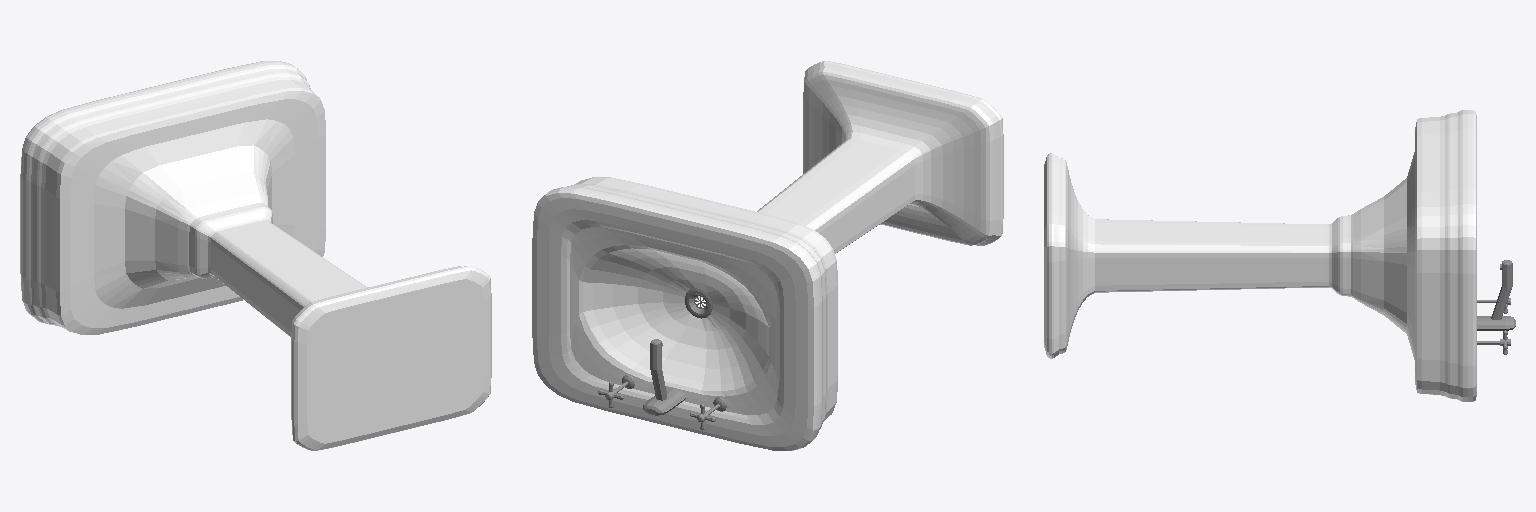
robot.urdf — 132:
<robot name="132">


	<link name="0:virtual">
		<visual>
			<origin xyz="0.0 0.0 0.0" rpy="0 0 0"/>
			<geometry>
				<cylinder length="0" radius="0"/>
			</geometry>
		</visual>
	</link>


	<link name="1:static">
		<visual>
			<origin xyz="-0.0 -0.0 -0.0" rpy="0 0 0"/>
			<geometry>
				<mesh filename="../raw_data/132/part_meshes/1.dae" />
			</geometry>
		</visual>
	</link>


	<link name="2:faucet handle 1">
		<visual>
			<origin xyz="0.1011795960367227 -0.9587434828281403 0.1516426540911204" rpy="0 0 0"/>
			<geometry>
				<mesh filename="../raw_data/132/part_meshes/2.dae" />
			</geometry>
		</visual>
	</link>


	<link name="3:faucet handle 2">
		<visual>
			<origin xyz="-0.1011795960367227 -0.9587434828281403 0.1516426540911204" rpy="0 0 0"/>
			<geometry>
				<mesh filename="../raw_data/132/part_meshes/3.dae" />
			</geometry>
		</visual>
	</link>


	<joint name="0:virtual::1:static" type="fixed">
		<parent link="0:virtual"/>
		<child link="1:static"/>
		<origin xyz="0.0 0.0 0.0" rpy="0 0 0"/>
	</joint>


	<joint name="0:virtual::2:faucet handle 1_rotation" type="revolute">
		<parent link="0:virtual"/>
		<child link="2:faucet handle 1"/>
		<origin xyz="-0.1011795960367227 0.9587434828281403 -0.1516426540911204" rpy="0 0 0"/>
		<limit lower="-3.141592653589793" upper="3.141592653589793" effort="10" velocity="3"/>
		<axis xyz="0.0 1.0 0.0"/>
	</joint>


	<joint name="0:virtual::3:faucet handle 2_rotation" type="revolute">
		<parent link="0:virtual"/>
		<child link="3:faucet handle 2"/>
		<origin xyz="0.1011795960367227 0.9587434828281403 -0.1516426540911204" rpy="0 0 0"/>
		<limit lower="-3.141592653589793" upper="3.141592653589793" effort="10" velocity="3"/>
		<axis xyz="0.0 1.0 0.0"/>
	</joint>


</robot>

--- Facts derived from the render (not from the file) ---
Views: 3 orthographic renders of the robot side by side, from view 1: azimuth 30°, elevation 25°; view 2: azimuth 150°, elevation 25°; view 3: azimuth 270°, elevation 25°.
Model 132 with 4 links and 3 joints (2 revolute, 1 fixed), rooted at 0:virtual, posed all joints at 0.
Links seen in each view (by area): view 1: 1:static; view 2: 1:static; view 3: 1:static.
Link boxes in pixels (box(x1,y1,x2,y2)): 1:static: box(20, 61, 491, 450); 1:static: box(532, 61, 1003, 450); 1:static: box(1044, 110, 1515, 401).
Bounding box of the posed robot: 0.6283 × 0.9788 × 0.4488 m (x, y, z).
Meshes: 3 distinct files referenced, 3 mesh visuals loaded (3 Collada DAE).